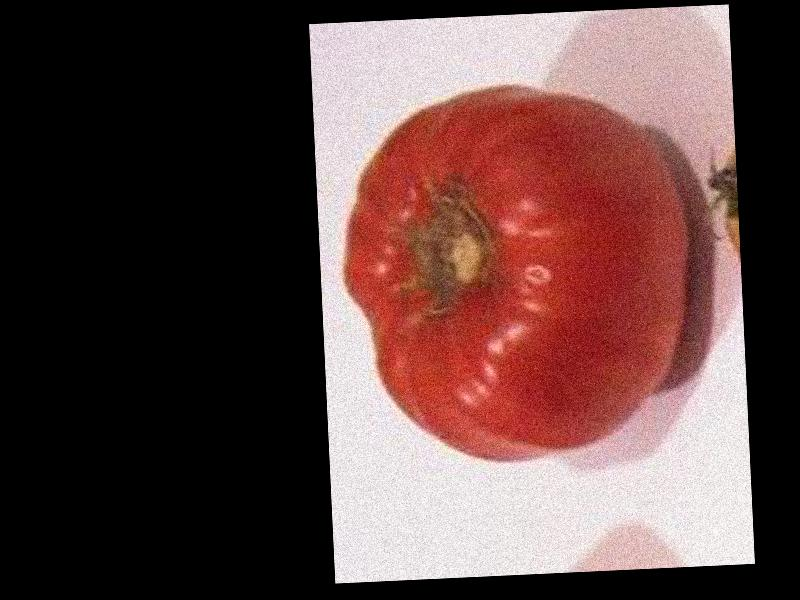Tomato: (337, 79, 692, 464)
